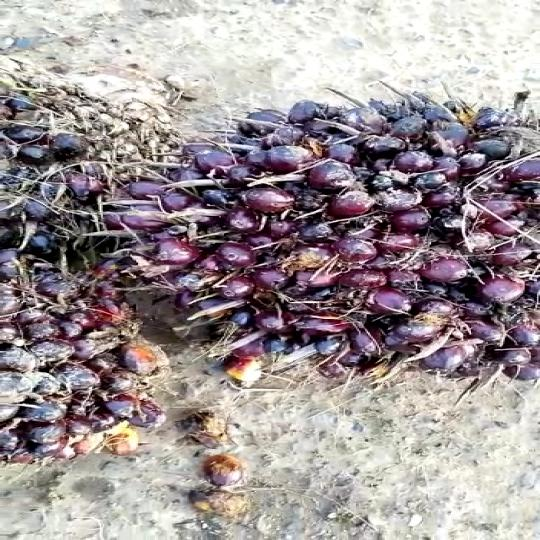mentah: (117, 69, 540, 387)
